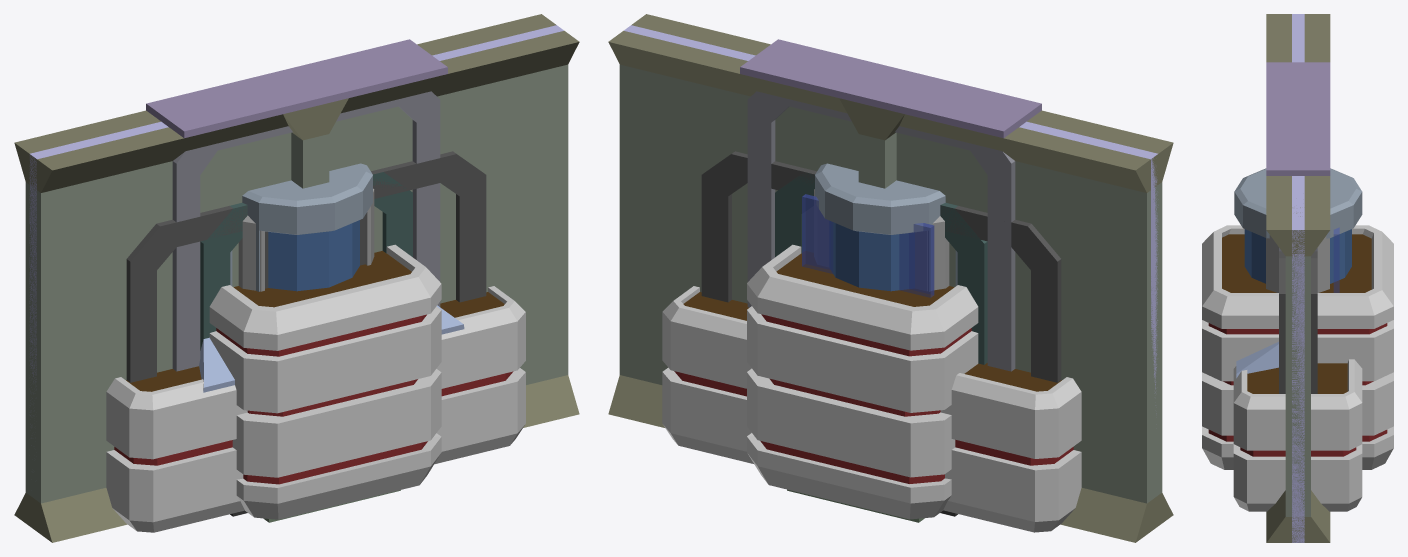
The model's file is low poly sci fi set.fbx.
3 renders of one model, left to right at view 1: azimuth 30°, elevation 25°; view 2: azimuth 150°, elevation 25°; view 3: azimuth 270°, elevation 25°, orthographic. The views are drawn at different scales.
Visible parts, largest first — view 1: Wall_2_Window_002, Crate_004, Wall_2_X4, Wall_2_Doorway, Crate_002, Wall_2_Window, WindowFrame_001, Roof_Light_002, Doorway_001, Pod_Broken_001, Wall_Decoration_004, Pod_002 (+8 smaller); view 2: Crate_004, Wall_2_Window_002, Wall_2_Doorway, Crate_002, Wall_2_Window, Wall_2_X4, Doorway_001, WindowFrame_001, Roof_Light_002, Pod_Broken_001, Roof_Light_001, Wall_2_X2 (+8 smaller); view 3: Crate_004, Crate_002, Wall_2_Window_002, Roof_Light_002, Wall_2_Doorway, Roof_Light_001, Glass_Barrier_Broken_001, Pod_Broken_001, Wall_2_X4, WindowFrame_001, Pod_002, Locker_001 (+2 smaller).
Part boxes in pixels (x1,y1,x2,y2): Wall_2_Window_002: [14, 14, 579, 541]; Crate_004: [209, 244, 441, 519]; Wall_2_X4: [15, 14, 579, 542]; Wall_2_Doorway: [15, 15, 578, 542]; Crate_002: [106, 286, 525, 532]; Wall_2_Window: [42, 65, 568, 384]; WindowFrame_001: [126, 151, 486, 382]; Roof_Light_002: [146, 39, 447, 138]; Doorway_001: [172, 91, 440, 371]; Pod_Broken_001: [230, 163, 372, 286]; Wall_Decoration_004: [200, 172, 412, 350]; Pod_002: [256, 221, 359, 291]; Crate_004: [747, 244, 978, 519]; Wall_2_Window_002: [608, 14, 1167, 542]; Wall_2_Doorway: [610, 14, 1173, 539]; Crate_002: [662, 286, 1081, 532]; Wall_2_Window: [621, 107, 1146, 503]; Wall_2_X4: [608, 14, 1173, 542]; Doorway_001: [747, 91, 1015, 371]; WindowFrame_001: [701, 151, 1061, 382]; Roof_Light_002: [740, 39, 1041, 138]; Pod_Broken_001: [815, 163, 957, 286]; Roof_Light_001: [740, 39, 1041, 132]; Wall_2_X2: [740, 74, 1011, 287]; Crate_004: [1202, 225, 1393, 469]; Crate_002: [1233, 359, 1362, 511]; Wall_2_Window_002: [1266, 14, 1330, 542]; Roof_Light_002: [1266, 62, 1330, 175]; Wall_2_Doorway: [1266, 14, 1330, 542]; Roof_Light_001: [1266, 62, 1330, 175]; Glass_Barrier_Broken_001: [1292, 14, 1304, 542]; Pod_Broken_001: [1234, 168, 1362, 254]; Wall_2_X4: [1266, 14, 1330, 542]; WindowFrame_001: [1279, 251, 1317, 393]; Pod_002: [1244, 229, 1351, 283]; Locker_001: [1266, 235, 1329, 292].
Size of the model in its own units: 4 by 3 by 1.5.
